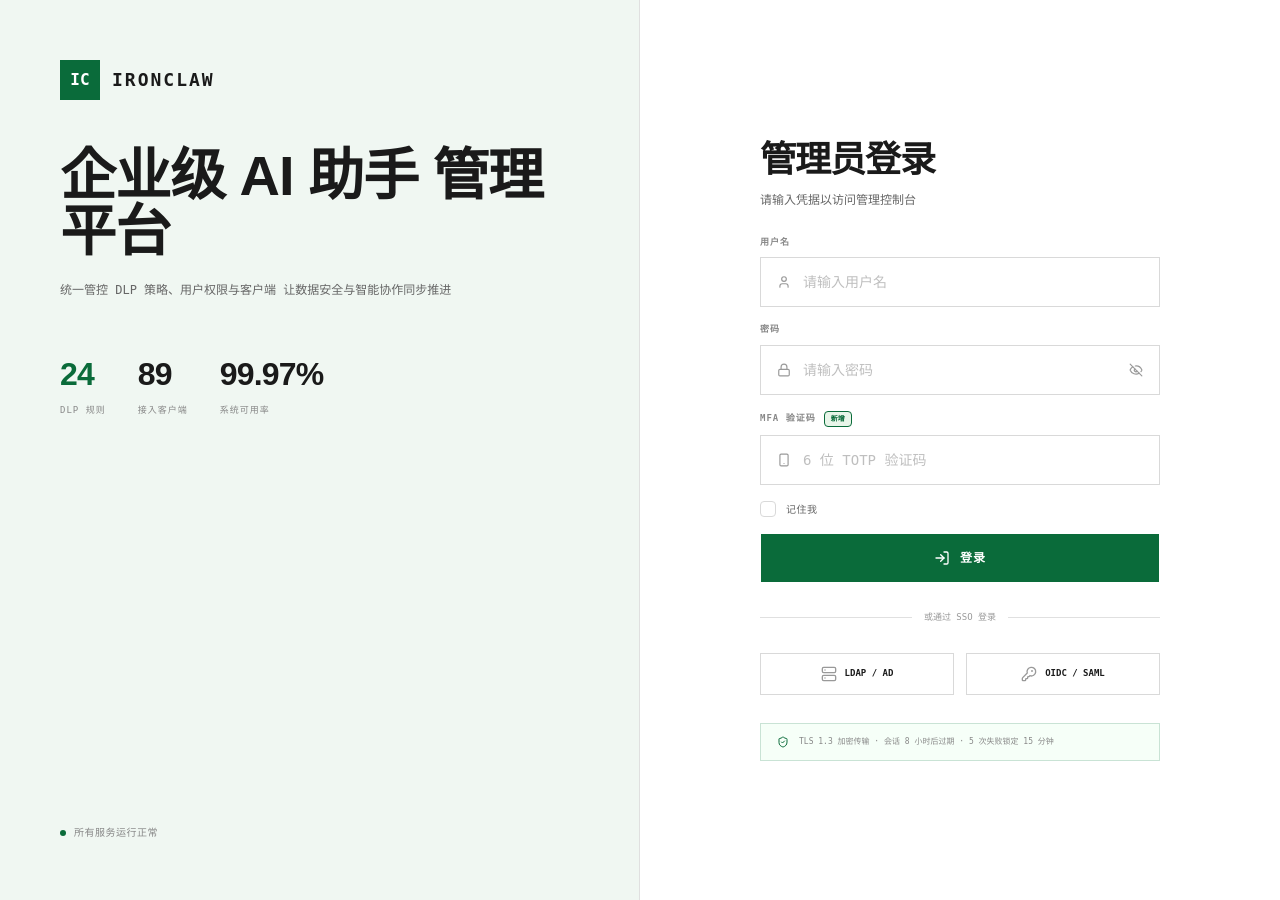
Test: LoginPage › 空用户名提交时应显示验证错误
What coordinates should you click on to do the following:
click the button "登录"
I would click on:
 (960, 558)
Its box is [760,533,1160,583].
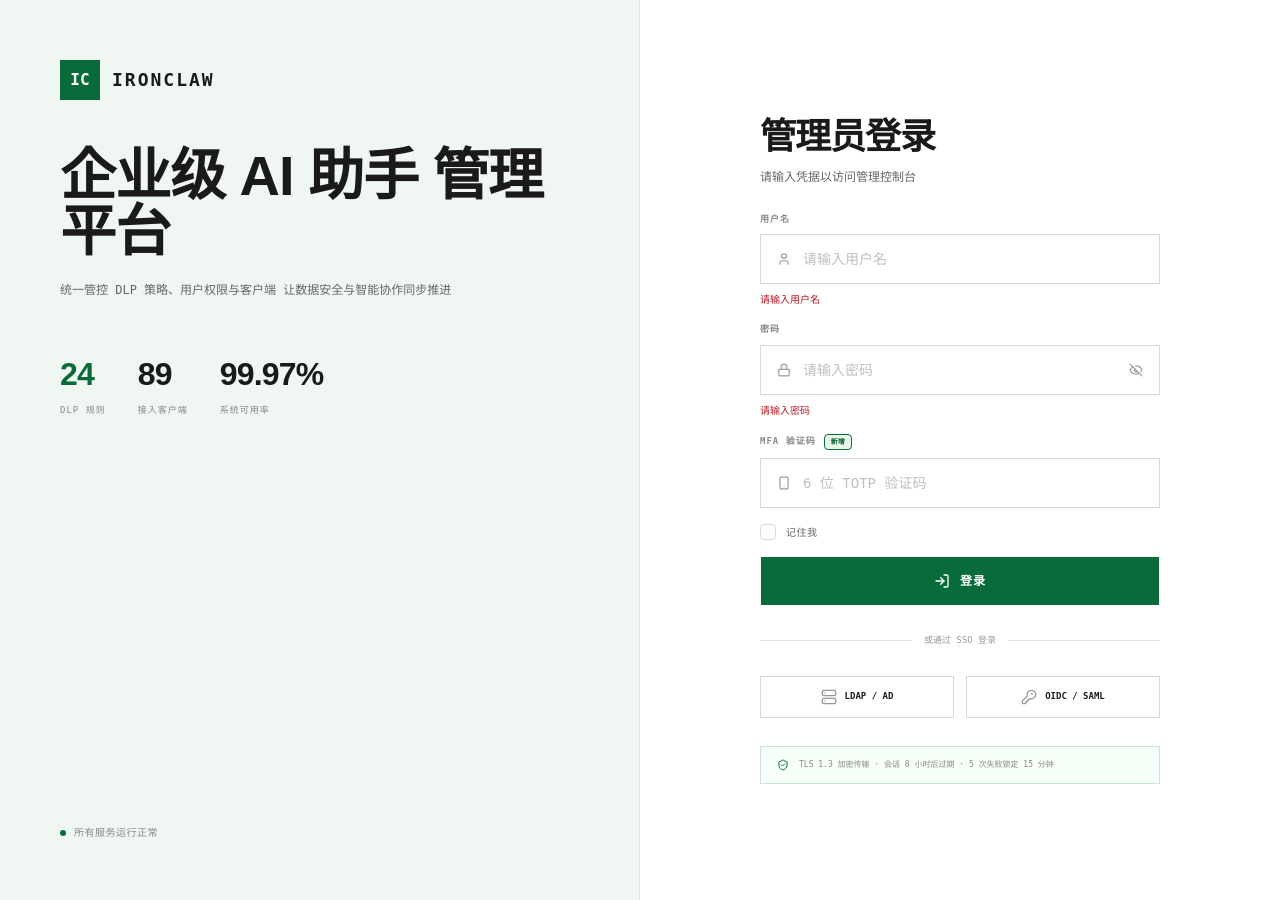
Now the text "请输入用户名" is shown, box [760,294,820,305]
